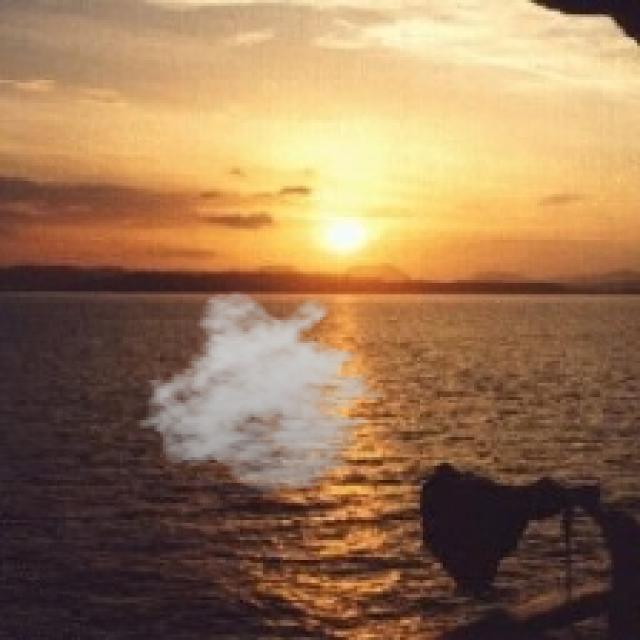Smoke: (137, 292, 403, 494)
